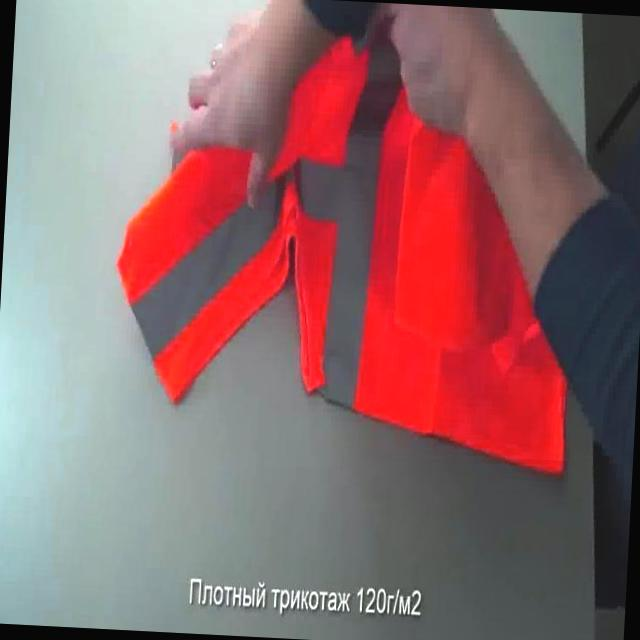vest: (101, 16, 593, 479)
